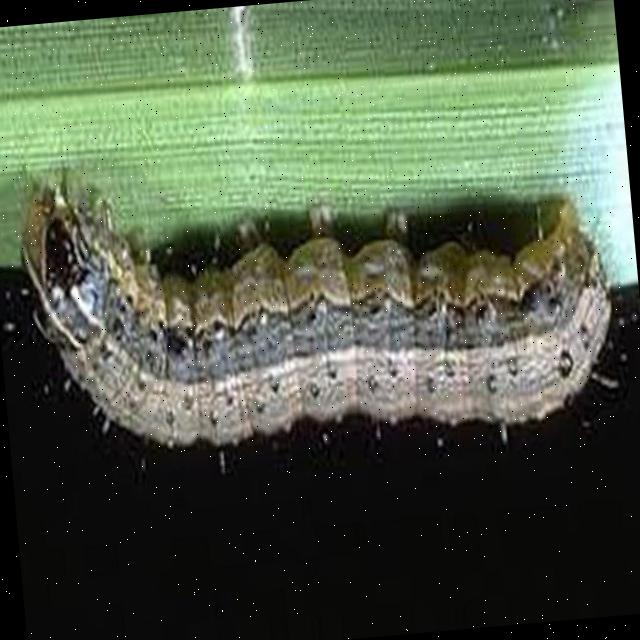worm: (12, 114, 628, 488)
